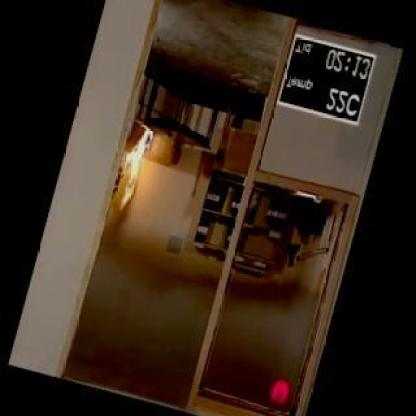Fire: (108, 115, 160, 219)
